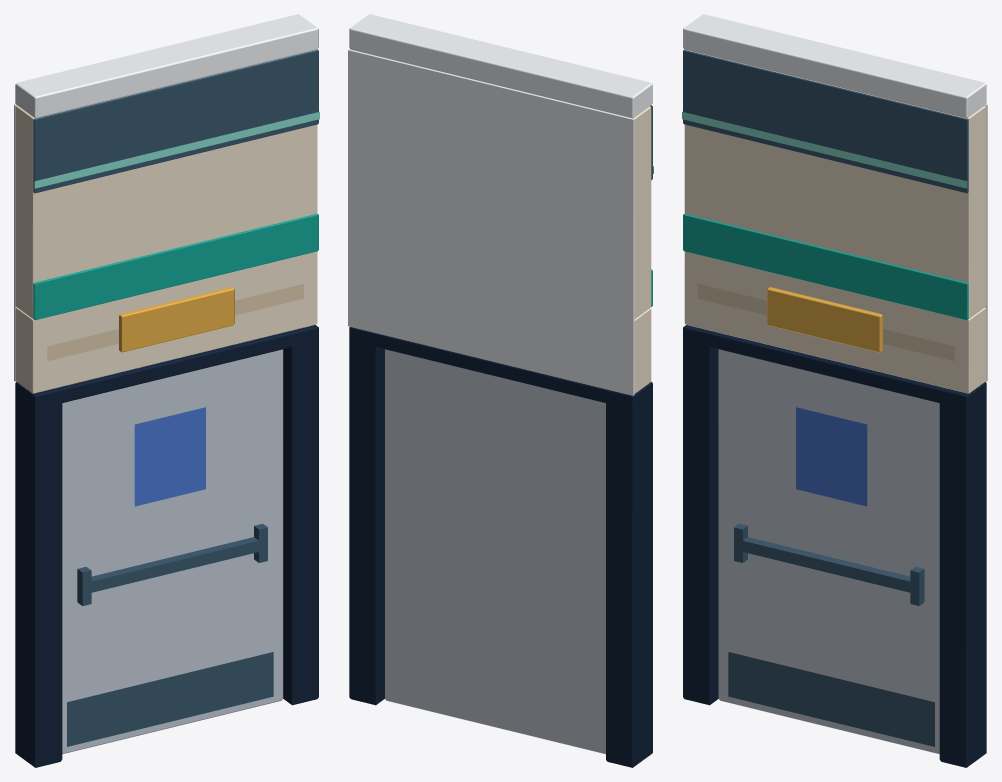
File: CM_Shell_StaffDoor.fbx
The picture shows the model from 3 angles, left to right: view 1: azimuth 30°, elevation 25°; view 2: azimuth 150°, elevation 25°; view 3: azimuth 330°, elevation 25°; orthographic projection.
Parts seen in each view (by area): view 1: Body, Door, SignPlate; view 2: Body, Door; view 3: Body, Door, SignPlate.
Part boxes in pixels (x1,y1,x2,y2): Body: (14, 14, 319, 767); Door: (62, 349, 283, 754); SignPlate: (119, 287, 234, 352); Body: (348, 14, 653, 767); Door: (385, 349, 605, 754); Body: (682, 14, 987, 767); Door: (718, 349, 939, 754); SignPlate: (767, 287, 882, 352).
Bounding box in the file's own units: 8 × 1.06 × 18.
Materials: 1 (1 with a texture image).
